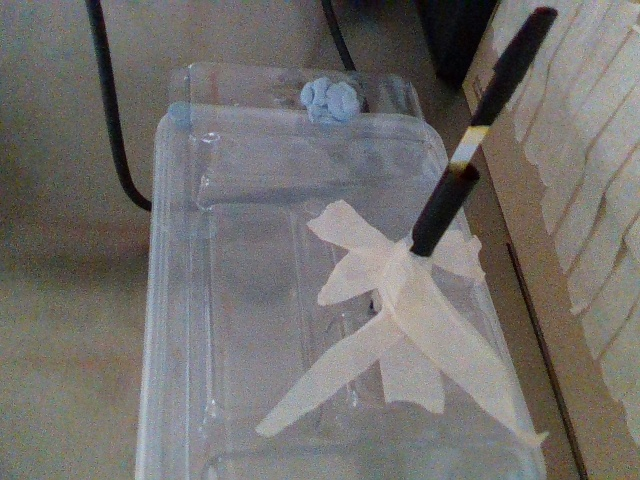test_strip: (445, 7, 560, 170)
